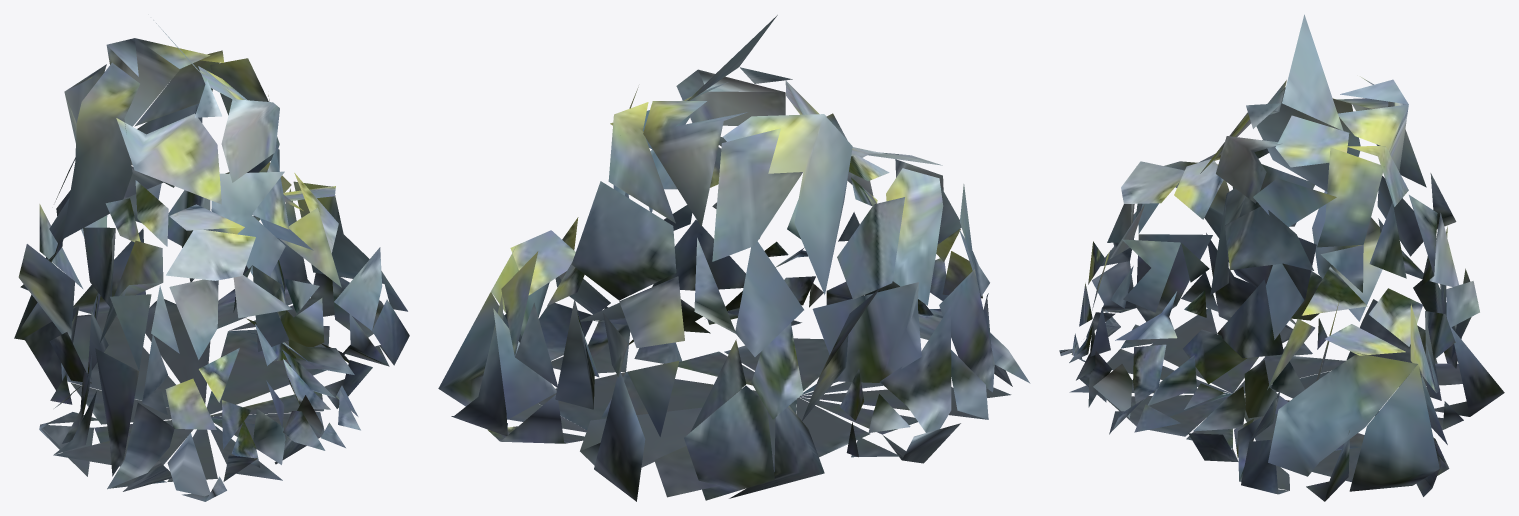
File: o-roche-semis.glb
3 views of the same model, side by side, from view 1: azimuth 30°, elevation 25°; view 2: azimuth 150°, elevation 25°; view 3: azimuth 270°, elevation 25° (orthographic). The views are drawn at different scales.
Visible parts, largest first — view 1: o-roche-semis; view 2: o-roche-semis; view 3: o-roche-semis.
Part boxes in pixels (x1,y1,x2,y2): o-roche-semis: (14,20,409,501); o-roche-semis: (438,15,1030,501); o-roche-semis: (1059,14,1504,501).
Bounding box in the file's own units: 0.9692 × 0.959 × 0.9631.
1 material, 1 textured.
